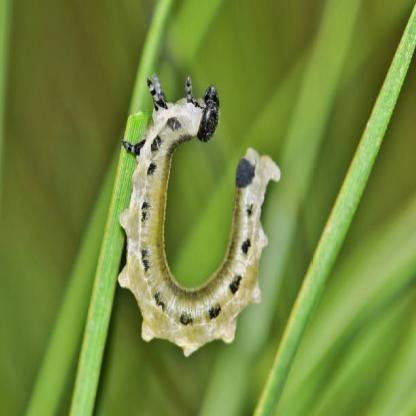sawfly: (114, 62, 281, 357)
